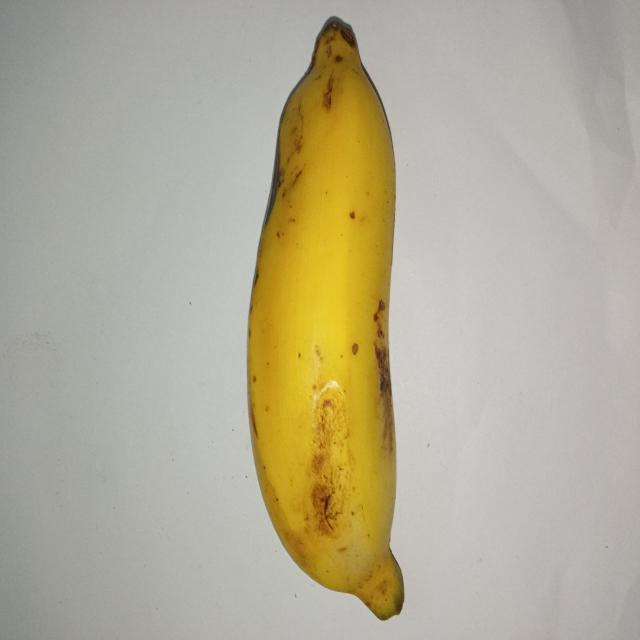fresh_banana: (248, 15, 404, 622)
